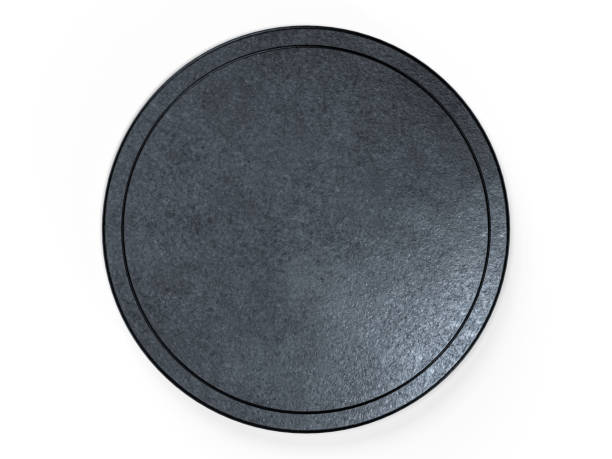daire: (105, 28, 515, 436)
